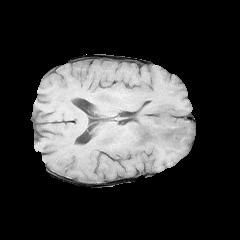glioma: (126, 106, 193, 149)
